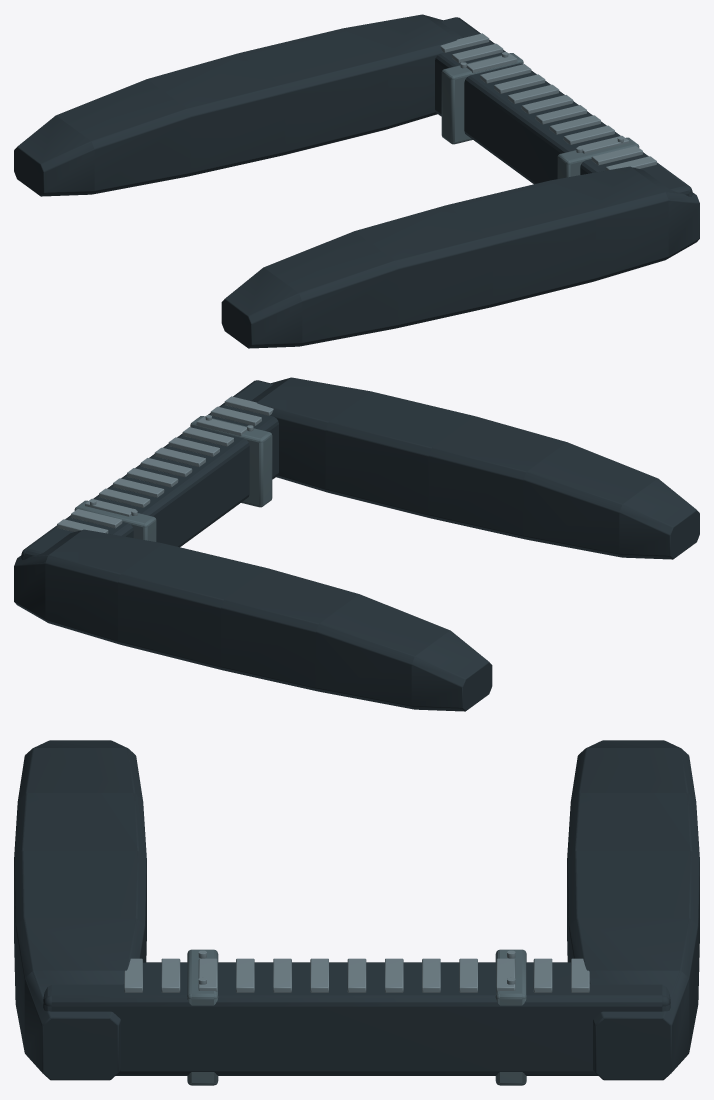
Rendered from SM_Mech_ForkFrame.fbx.
3 views of the same model, one above another, from view 1: azimuth 30°, elevation 25°; view 2: azimuth 150°, elevation 25°; view 3: azimuth 270°, elevation 25° (orthographic). The views are drawn at different scales.
Visible parts, largest first — view 1: SM_Mech_ForkFrame; view 2: SM_Mech_ForkFrame; view 3: SM_Mech_ForkFrame.
Boxes of the visible parts, bbox=[...] form: SM_Mech_ForkFrame: bbox=[14, 14, 699, 348]; SM_Mech_ForkFrame: bbox=[14, 377, 699, 711]; SM_Mech_ForkFrame: bbox=[14, 740, 699, 1085].
Size of the model in its own units: 1300 by 1290 by 205.
